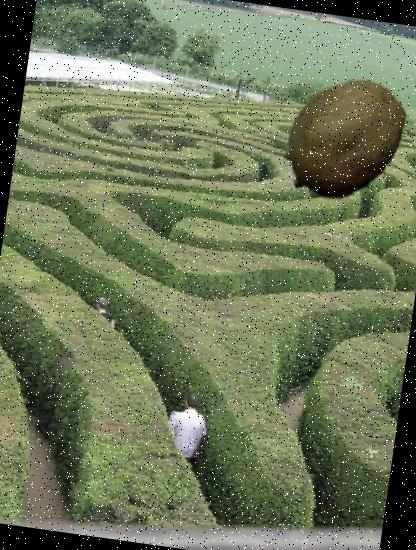Papaya: (271, 65, 416, 213)
